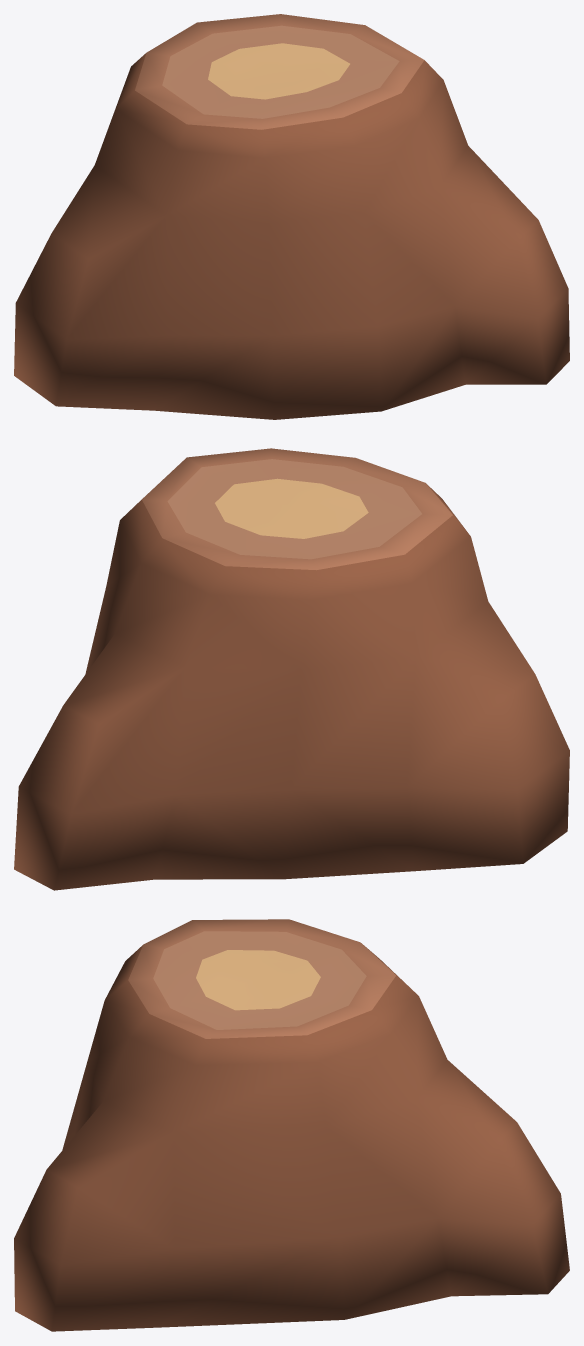
The model's file is Stump_B_01_LOD2.gltf.
3 views of the same model, one above another, from view 1: azimuth 30°, elevation 25°; view 2: azimuth 150°, elevation 25°; view 3: azimuth 270°, elevation 25° (orthographic). The views are drawn at different scales.
Visible parts, largest first — view 1: Stump_B_01_LOD2_Cylinder.600; view 2: Stump_B_01_LOD2_Cylinder.600; view 3: Stump_B_01_LOD2_Cylinder.600.
Boxes of the visible parts, x1=… form: Stump_B_01_LOD2_Cylinder.600: x1=14, y1=14, x2=569, y2=419; Stump_B_01_LOD2_Cylinder.600: x1=14, y1=448, x2=569, y2=890; Stump_B_01_LOD2_Cylinder.600: x1=14, y1=919, x2=569, y2=1331.
Bounding box in the file's own units: 3.68 × 2.23 × 4.09.
Materials: 1 (1 with a texture image).
